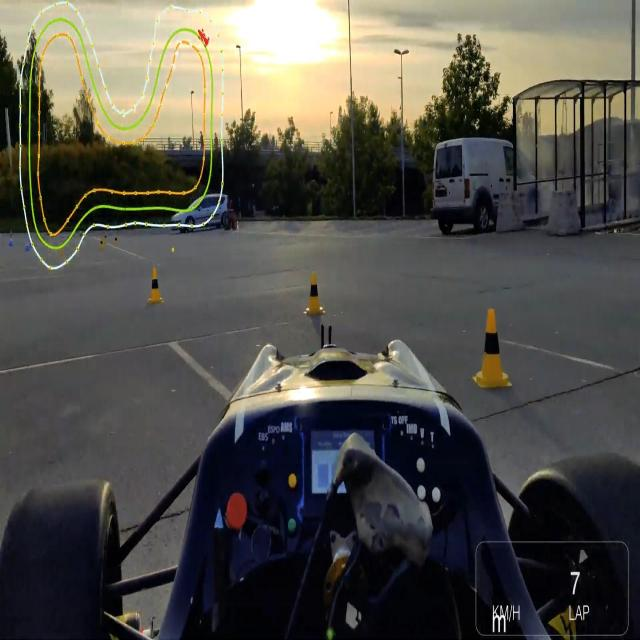blue_cone: (25, 240, 31, 253), (8, 236, 14, 248)
yellow_cone: (472, 308, 514, 396), (302, 272, 326, 324), (148, 265, 164, 304), (114, 233, 120, 248), (98, 238, 104, 252), (103, 232, 109, 246)
